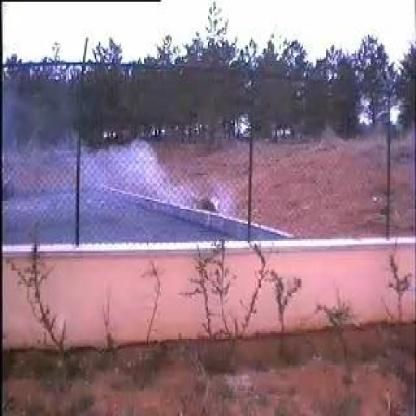-: (48, 121, 212, 240)
